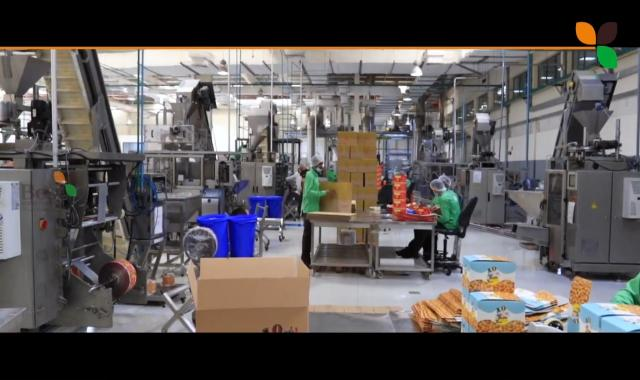hairnet: (429, 174, 446, 193), (310, 156, 322, 172)
